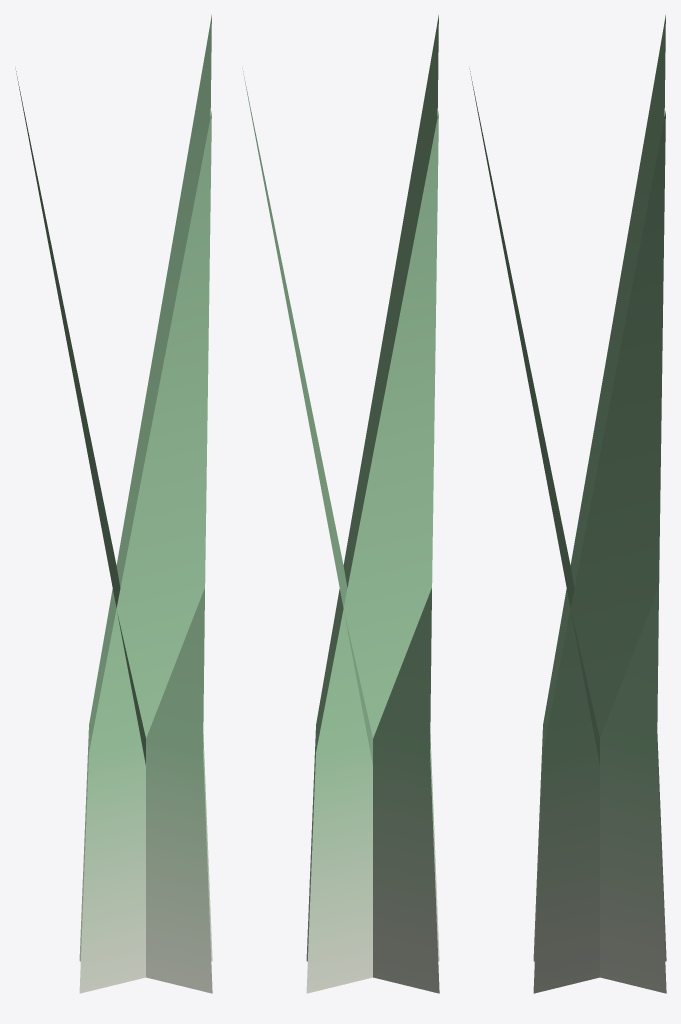
The model's file is leek.glb.
The picture shows the model from 3 angles, left to right: view 1: azimuth 30°, elevation 25°; view 2: azimuth 150°, elevation 25°; view 3: azimuth 270°, elevation 25°; orthographic projection.
Visible parts, largest first — view 1: leek_mesh; view 2: leek_mesh; view 3: leek_mesh.
Part boxes in pixels (x1,y1,x2,y2): leek_mesh: (15, 15, 212, 993); leek_mesh: (242, 15, 439, 993); leek_mesh: (469, 15, 666, 993).
Size of the model in its own units: 0.1039 by 0.46 by 0.0903.
